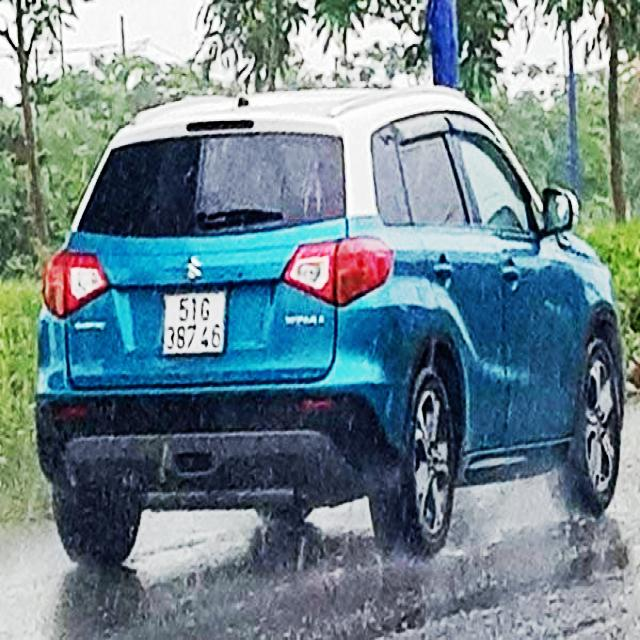license_plate: (162, 291, 228, 356)
